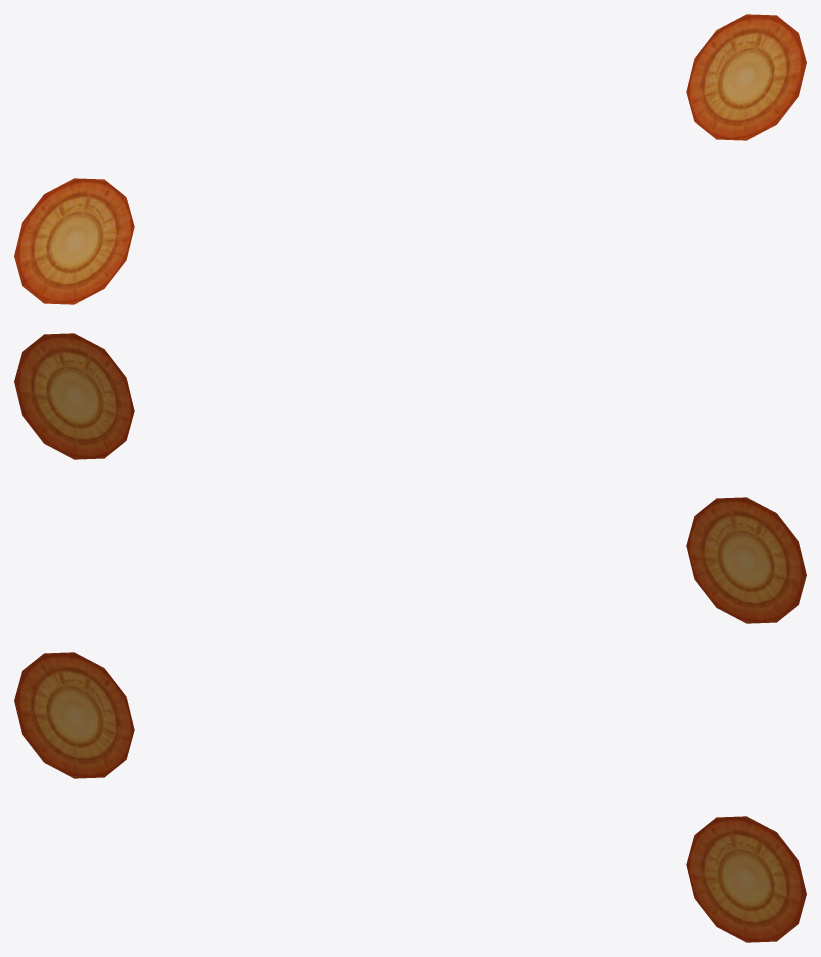
The model's file is hutt_fighter_medium_engine_s02_on_l0.fbx.
The picture shows the model from 3 angles, top to bottom: view 1: azimuth 30°, elevation 25°; view 2: azimuth 150°, elevation 25°; view 3: azimuth 330°, elevation 25°; orthographic projection.
Visible parts, largest first — view 1: mesh_node; view 2: mesh_node; view 3: mesh_node.
Boxes of the visible parts, left/top/right/bottom form: mesh_node: left=14, top=14, right=806, bottom=304; mesh_node: left=14, top=333, right=806, bottom=623; mesh_node: left=14, top=652, right=806, bottom=942.
Size of the model in its own units: 3.97 by 0.6047 by 0.
Materials: 1 (1 with a texture image).
